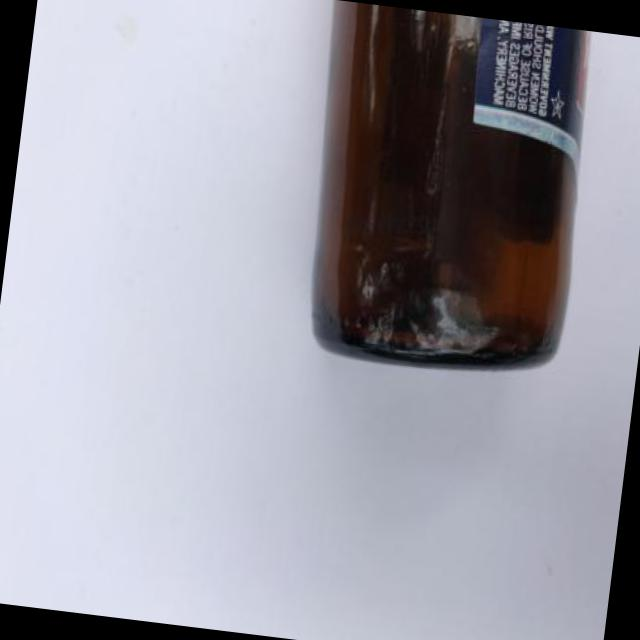chai_thuy_tinh: (313, 0, 590, 368)
